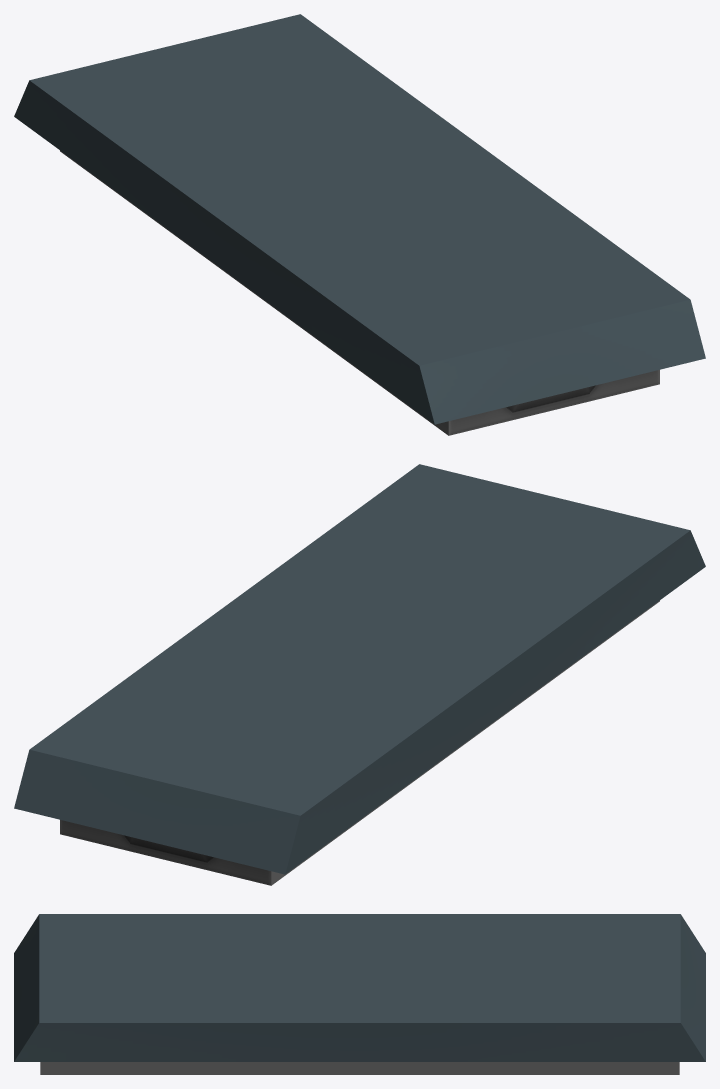
Rendered from env_building_fluorescentlamp_lod1.fbx.
3 views of the same model, one above another, from view 1: azimuth 30°, elevation 25°; view 2: azimuth 150°, elevation 25°; view 3: azimuth 270°, elevation 25° (orthographic). The views are drawn at different scales.
Visible parts, largest first — view 1: polySurface58; view 2: polySurface58; view 3: polySurface58.
Boxes of the visible parts, x1,y1,x2,y2 form: polySurface58: (14, 14, 705, 435); polySurface58: (14, 464, 705, 885); polySurface58: (14, 914, 705, 1074).
Bounding box in the file's own units: 8.93 × 2.67 × 24.
1 material, 1 textured.
